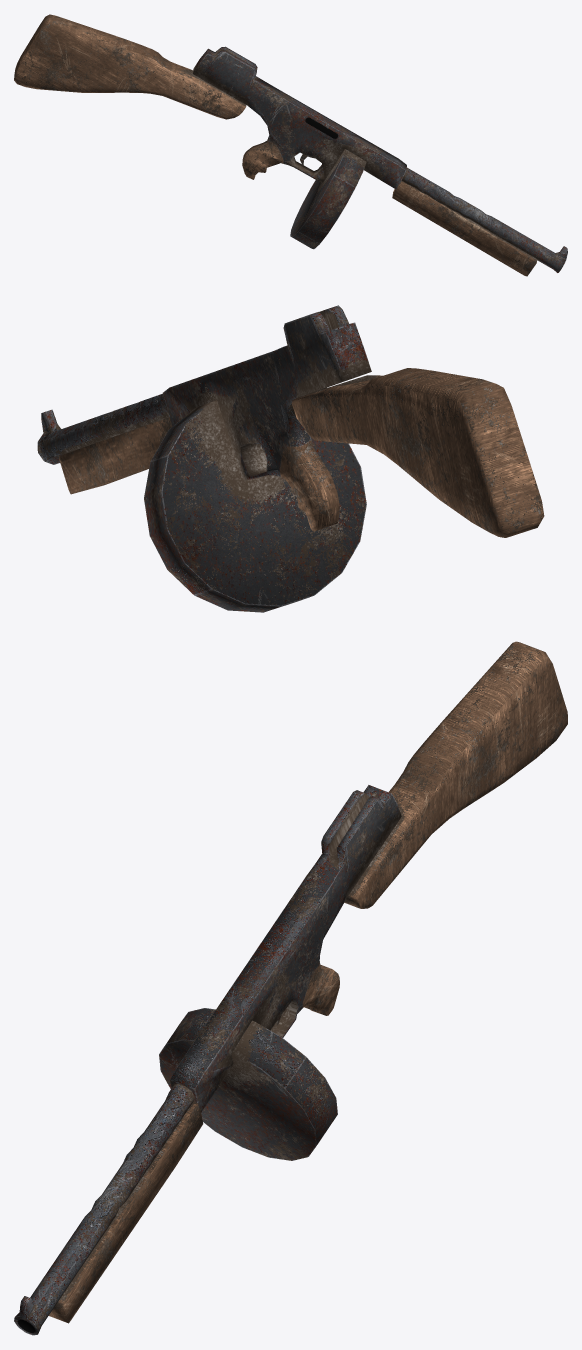
File: Anim_disparar_ametralladora_objetos.0016.obj
3 renders of one model, top to bottom at view 1: azimuth 30°, elevation 25°; view 2: azimuth 150°, elevation 25°; view 3: azimuth 270°, elevation 25°, orthographic. The views are drawn at different scales.
Parts seen in each view (by area): view 1: Ametralladora1; view 2: Ametralladora1; view 3: Ametralladora1.
Part boxes in pixels (box(x1,y1,x2,y2)): Ametralladora1: box(14, 14, 567, 276); Ametralladora1: box(37, 305, 544, 612); Ametralladora1: box(14, 641, 567, 1335).
Bounding box in the file's own units: 4.86 × 2.74 × 3.45.
